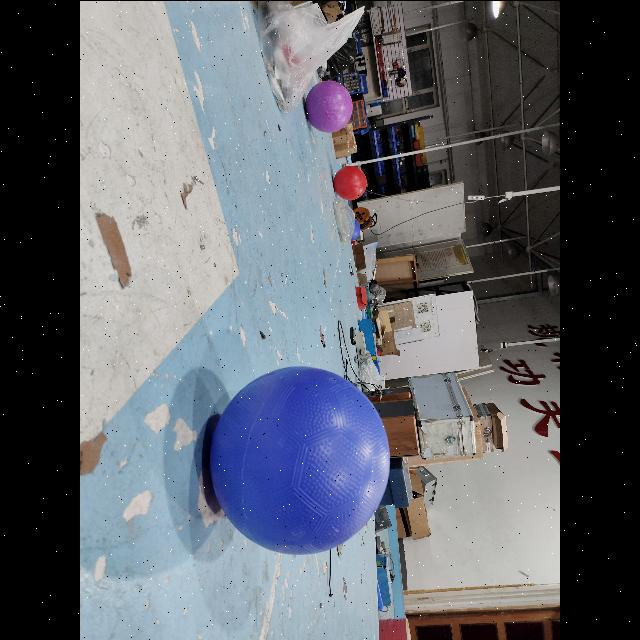B: (210, 363, 390, 555)
P: (305, 79, 353, 131)
R: (333, 164, 367, 198)
